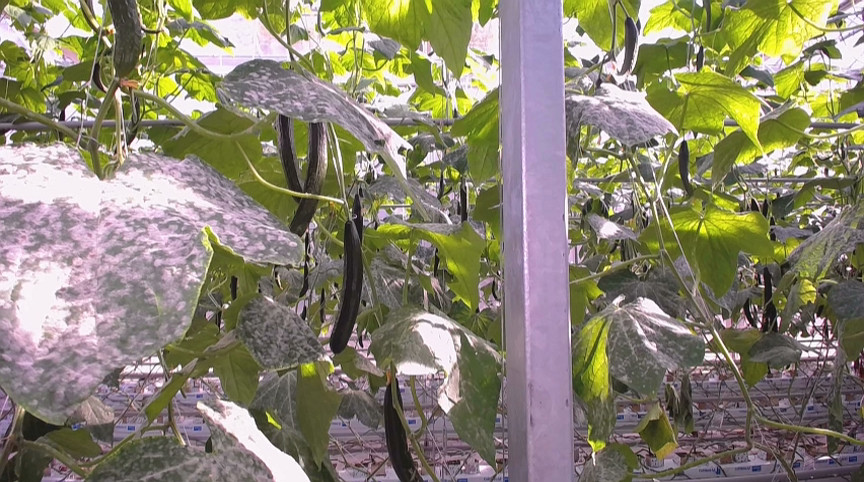cucumber: (289, 118, 330, 238), (331, 222, 367, 355), (385, 381, 421, 481), (275, 116, 305, 200), (108, 1, 141, 77), (611, 19, 643, 85), (677, 141, 696, 197)
